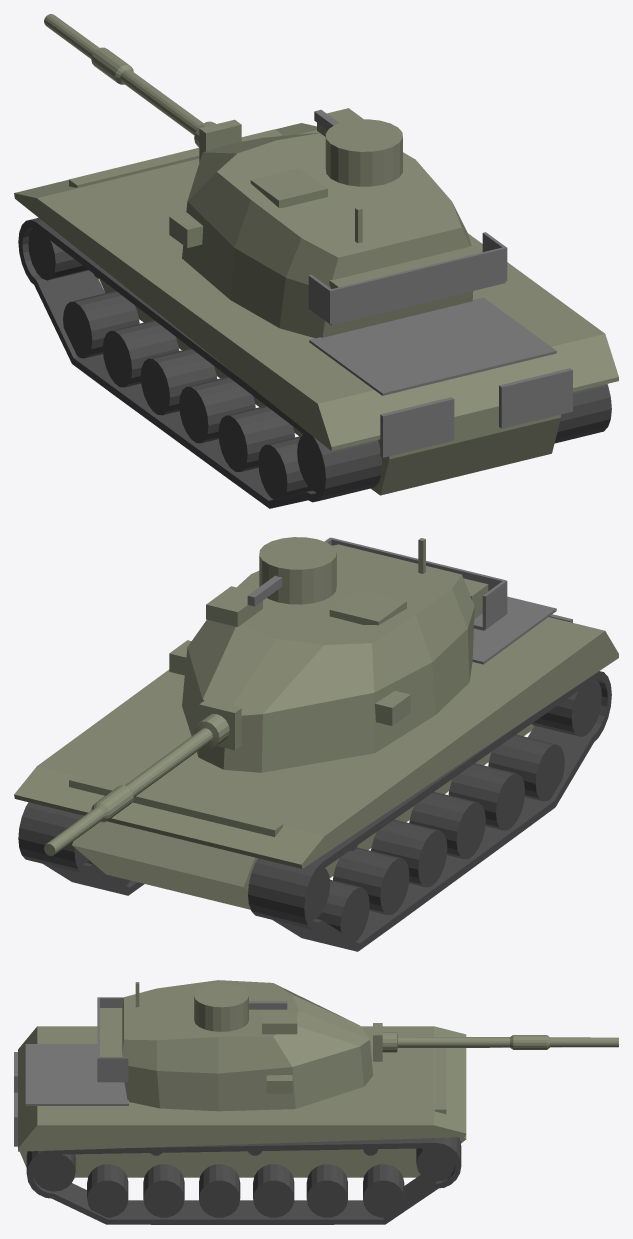
The picture shows the model from 3 angles, top to bottom: view 1: azimuth 30°, elevation 25°; view 2: azimuth 150°, elevation 25°; view 3: azimuth 270°, elevation 25°; orthographic projection. The views are drawn at different scales.
Parts seen in each view (by area): view 1: Hull_Upper, Turret, Track_L, Grille_Deck, Hull, Rack_Rear, Cupola_M19, Grille_Rear_L, Grille_Rear_R, Barrel, Wheel_L_01, Wheel_L_04 (+13 smaller); view 2: Hull_Upper, Turret, Track_L, Hull, Cupola_M19, Track_R, Barrel, Wheel_L_02, Wheel_L_05, Wheel_L_04, Wheel_L_06, Wheel_L_03 (+11 smaller); view 3: Hull_Upper, Turret, Track_R, Hull, Grille_Deck, Barrel, Cupola_M19, Wheel_R_05, Wheel_R_03, Wheel_R_02, Wheel_R_04, Wheel_R_06 (+10 smaller).
Boxes of the visible parts, box(x1,y1,x2,y2) form: Hull_Upper: box(14, 123, 618, 450); Turret: box(182, 132, 473, 338); Track_L: box(18, 217, 382, 508); Grille_Deck: box(309, 297, 556, 395); Hull: box(99, 278, 560, 495); Rack_Rear: box(331, 247, 505, 323); Cupola_M19: box(325, 119, 402, 186); Grille_Rear_L: box(380, 397, 454, 457); Grille_Rear_R: box(499, 368, 572, 428); Barrel: box(44, 14, 215, 147); Wheel_L_01: box(63, 290, 139, 358); Wheel_L_04: box(179, 376, 255, 443); Hull_Upper: box(14, 617, 618, 868); Turret: box(182, 544, 474, 772); Track_L: box(248, 671, 611, 951); Hull: box(72, 724, 534, 909); Cupola_M19: box(259, 537, 336, 604); Track_R: box(18, 802, 144, 895); Barrel: box(44, 714, 229, 855); Wheel_L_02: box(333, 847, 409, 914); Wheel_L_05: box(448, 763, 524, 830); Wheel_L_04: box(409, 792, 485, 859); Wheel_L_06: box(488, 734, 564, 801); Wheel_L_03: box(371, 819, 447, 887); Hull_Upper: box(18, 1026, 466, 1151); Turret: box(122, 980, 373, 1111); Track_R: box(26, 1137, 461, 1224); Hull: box(18, 1064, 466, 1177); Grille_Deck: box(25, 1044, 128, 1105); Barrel: box(382, 1032, 618, 1052); Cupola_M19: box(194, 984, 248, 1031); Wheel_R_05: box(143, 1164, 184, 1217); Wheel_R_03: box(253, 1164, 294, 1217); Wheel_R_02: box(306, 1164, 347, 1217); Wheel_R_04: box(199, 1164, 240, 1217); Wheel_R_06: box(87, 1164, 128, 1217).
Bounding box in the file's own units: 3.63 × 3.27 × 9.37.
